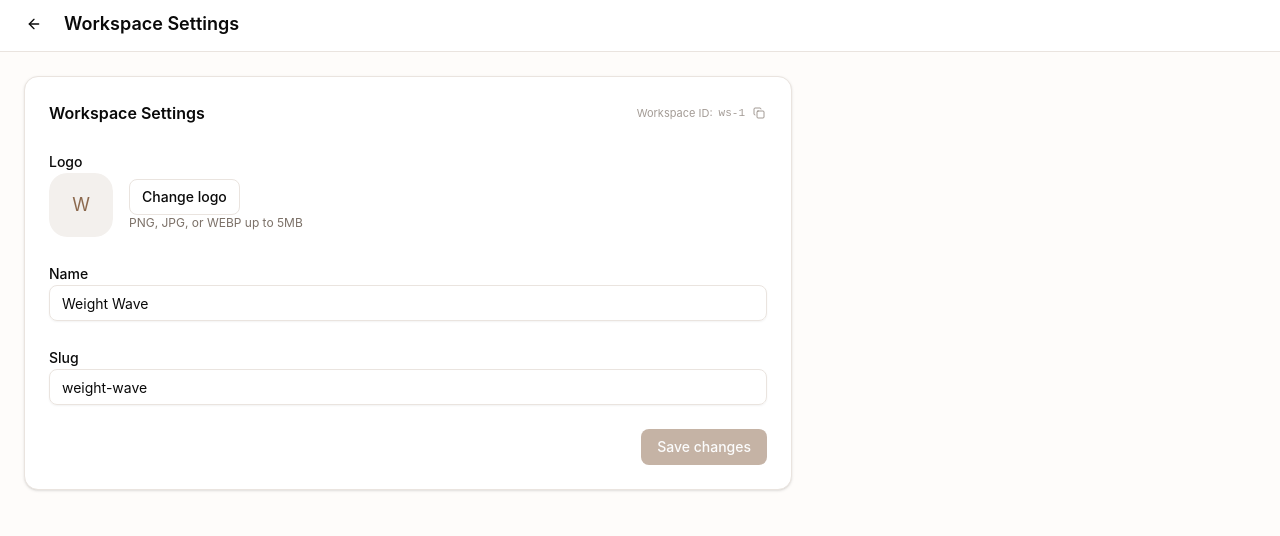
WorkspaceSettingsContent › shows validation and blocks invalid slug submission
Step 1. Replace the text in the field labelled "Slug" with "Bad Slug!" → (408, 387), box [49,369,767,405]
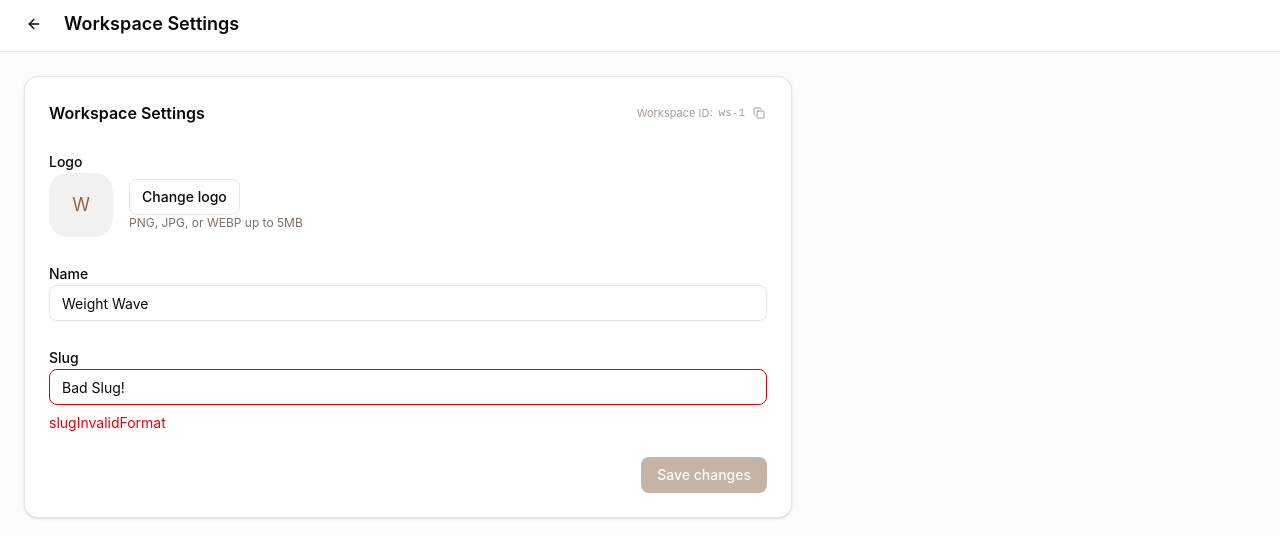
Expected: the button "Save changes" is disabled, [641,457,767,493]
Now the text "slugInvalidFormat" is shown, box [49,414,166,431]
